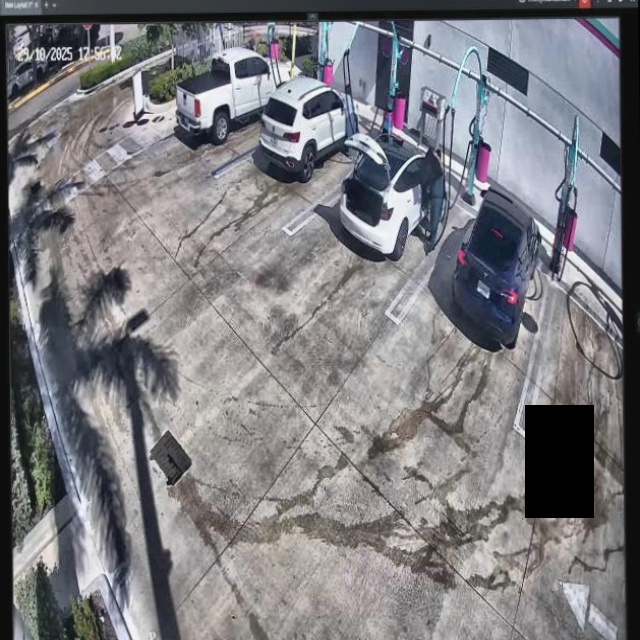Car: (449, 179, 543, 349), (345, 131, 442, 266), (257, 78, 357, 176)
